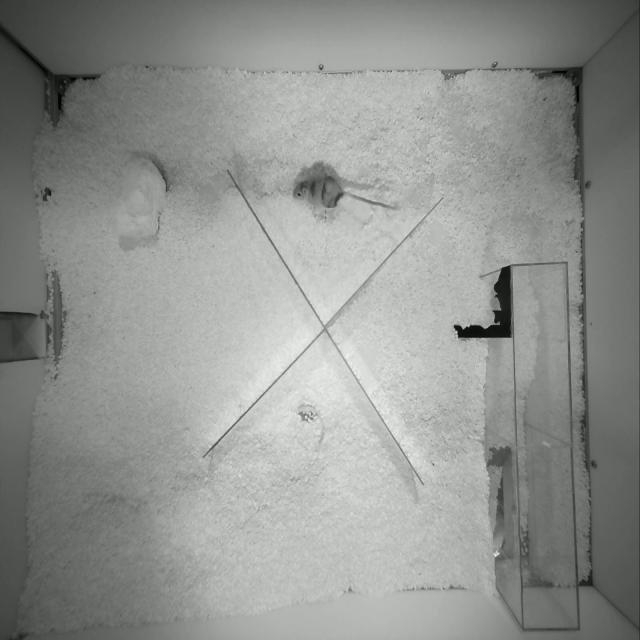adult_back: (293, 173, 396, 209)
